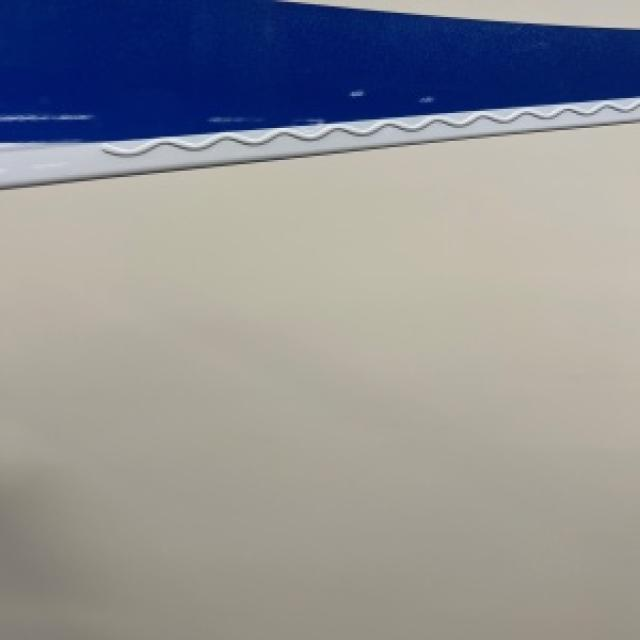healthy: (0, 122, 638, 638), (0, 0, 638, 183)
